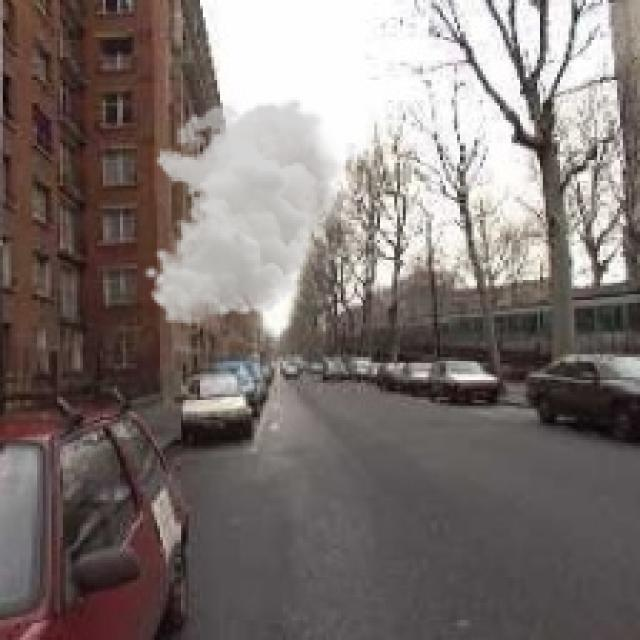Smoke: (142, 97, 352, 326)
